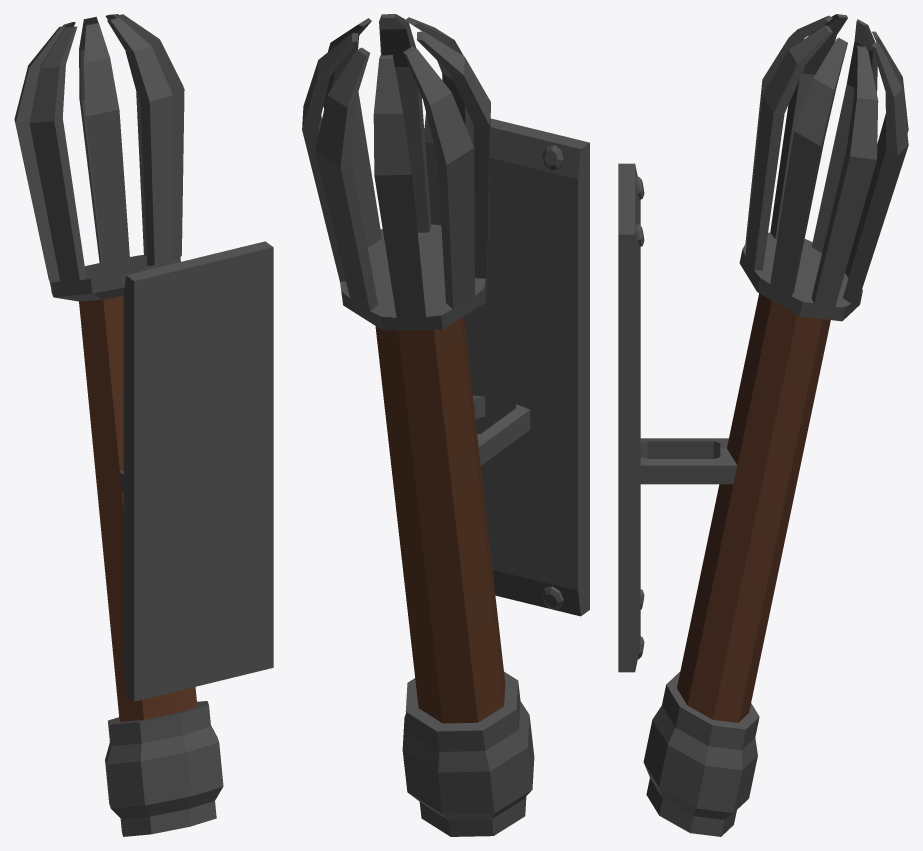
Rendered from lamp.glb.
The picture shows the model from 3 angles, left to right: view 1: azimuth 30°, elevation 25°; view 2: azimuth 150°, elevation 25°; view 3: azimuth 270°, elevation 25°; orthographic projection. The views are drawn at different scales.
Parts seen in each view (by area): view 1: Lamp; view 2: Lamp; view 3: Lamp.
Boxes of the visible parts, x1,y1,x2,y2 form: Lamp: [14, 14, 273, 836]; Lamp: [302, 14, 589, 836]; Lamp: [618, 14, 908, 836].
Size of the model in its own units: 0.1571 by 0.753 by 0.247.
1 material, 1 textured.
